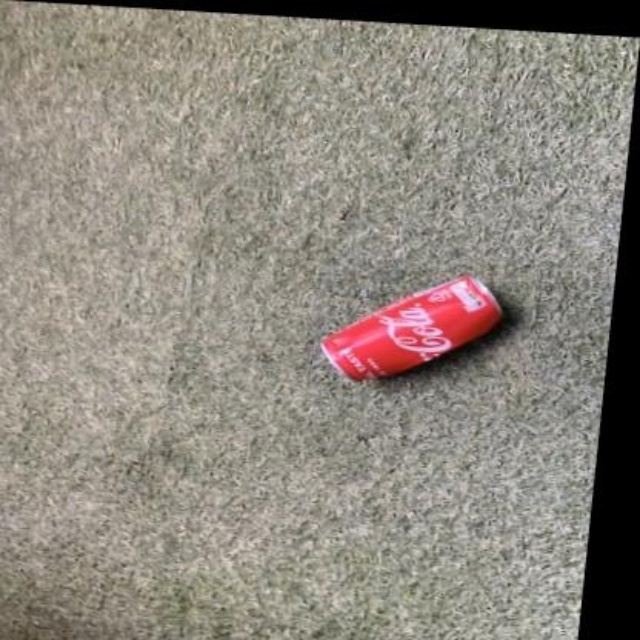trash: (322, 274, 500, 378)
